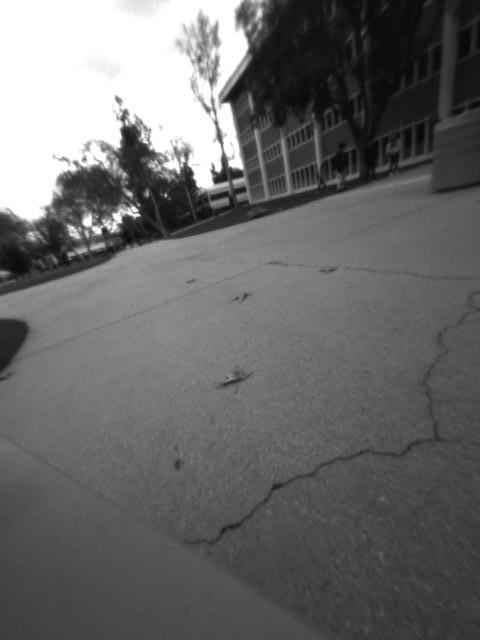trashcan: (429, 104, 480, 199)
